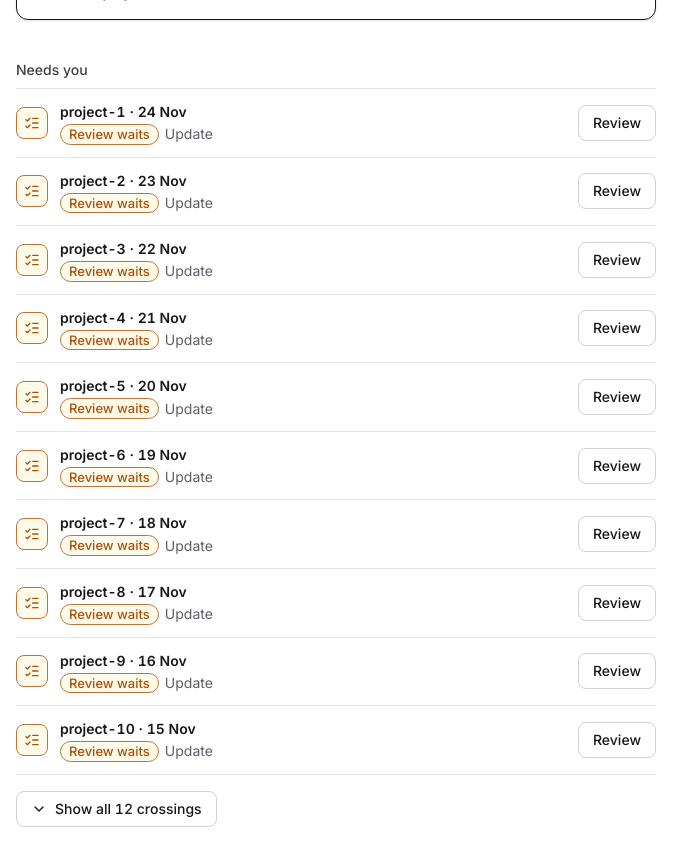
it: the online home › shows 10 rows of a group and a control that shows all 12
(page scrolled)
Click the button "Show all 12 crossings" at (116, 809), box [16,791,217,827]
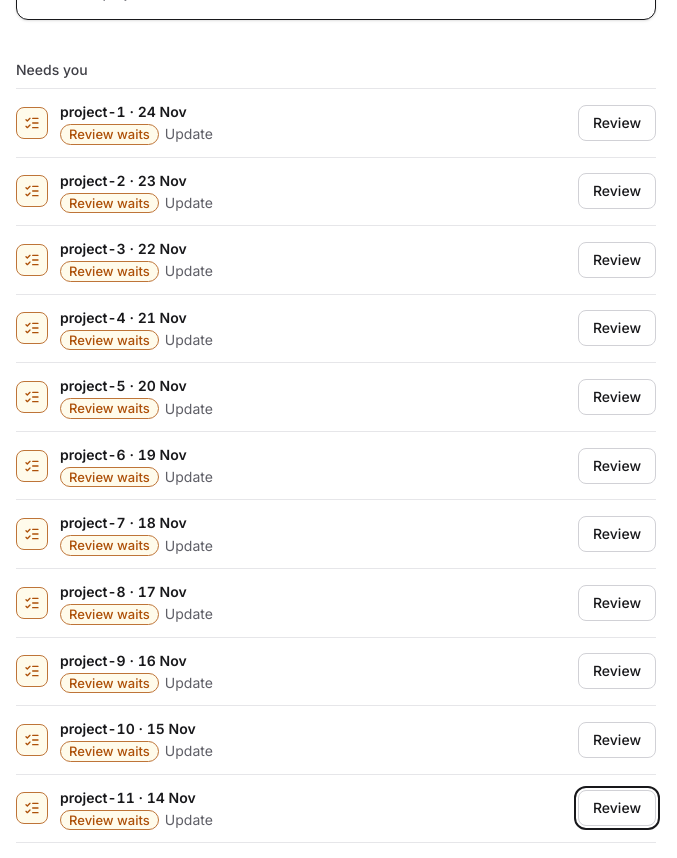
Check: the button "Show all" is gone
